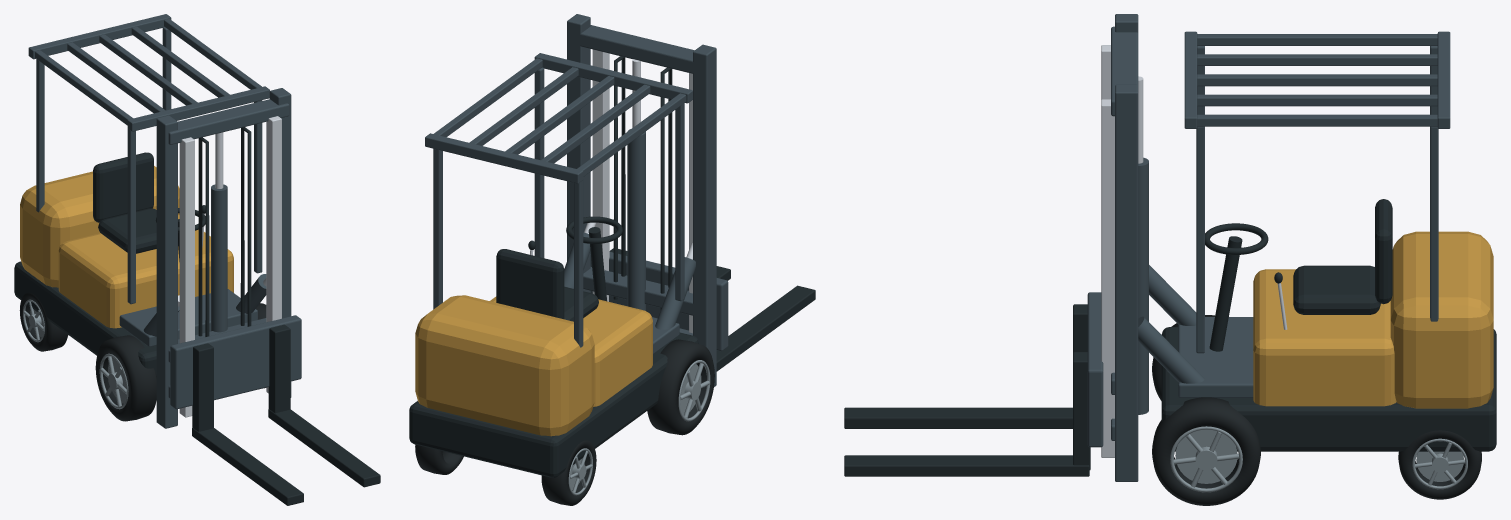
Rendered from forklift.glb.
The picture shows the model from 3 angles, left to right: view 1: azimuth 30°, elevation 25°; view 2: azimuth 150°, elevation 25°; view 3: azimuth 270°, elevation 25°; orthographic projection. The views are drawn at different scales.
Visible parts, largest first — view 1: steel (×2), black (×2), orange, chrome, rubber (×2), wheel-metal (×2); view 2: steel (×2), orange, black (×2), rubber (×3), chrome, wheel-metal (×2); view 3: steel (×2), black (×2), orange, rubber (×2), chrome, wheel-metal (×2).
Part boxes in pixels (left/top/right/bottom): steel (×2): left=28, top=14, right=301, bottom=428; black (×2): left=14, top=127, right=380, bottom=505; orange: left=20, top=166, right=233, bottom=328; chrome: left=178, top=116, right=281, bottom=417; rubber (×2): left=19, top=292, right=156, bottom=421; wheel-metal (×2): left=23, top=299, right=128, bottom=409; steel (×2): left=425, top=14, right=728, bottom=386; orange: left=415, top=295, right=652, bottom=436; black (×2): left=409, top=56, right=815, bottom=477; rubber (×3): left=415, top=339, right=714, bottom=505; chrome: left=530, top=49, right=692, bottom=333; wheel-metal (×2): left=568, top=360, right=710, bottom=495; steel (×2): left=1087, top=14, right=1450, bottom=481; black (×2): left=844, top=199, right=1496, bottom=476; orange: left=1253, top=231, right=1493, bottom=408; rubber (×2): left=1152, top=397, right=1481, bottom=505; chrome: left=1101, top=45, right=1287, bottom=457; wheel-metal (×2): left=1170, top=426, right=1467, bottom=492.
Size of the model in its own units: 1.22 by 2.31 by 3.35.
